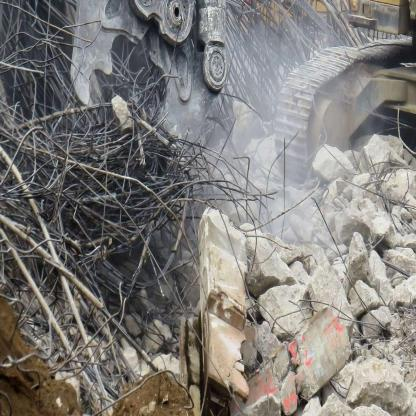brick: (196, 210, 414, 415), (315, 150, 416, 334), (226, 204, 374, 320), (230, 102, 310, 222), (333, 135, 414, 204), (119, 335, 182, 380), (107, 95, 134, 130)
